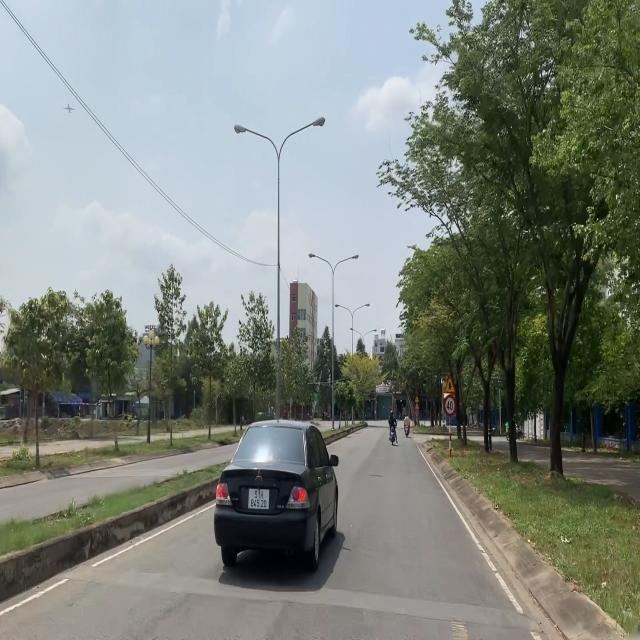Duong giao nhau: (415, 396, 419, 402)
Giao voi duong khong uu tien: (442, 376, 457, 394)
Nguoi di bo cat ngang: (415, 404, 419, 409)
Toc do toi da: (443, 395, 457, 417)
